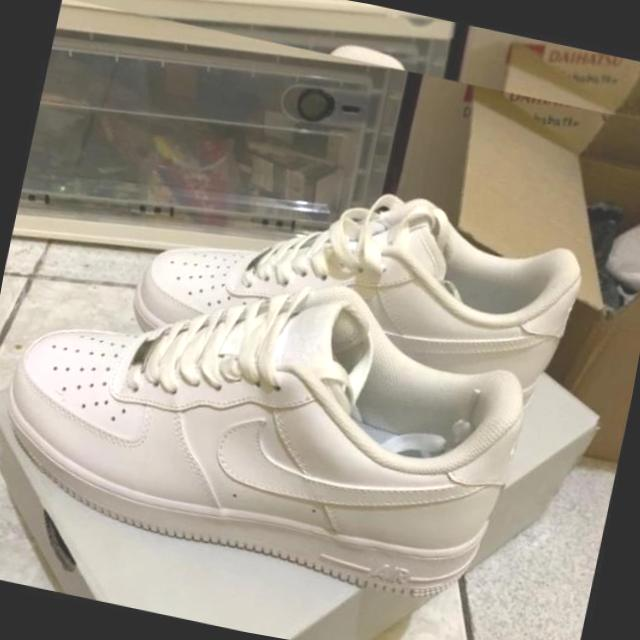nike_original_airforce: (0, 220, 545, 615), (113, 146, 602, 414)
